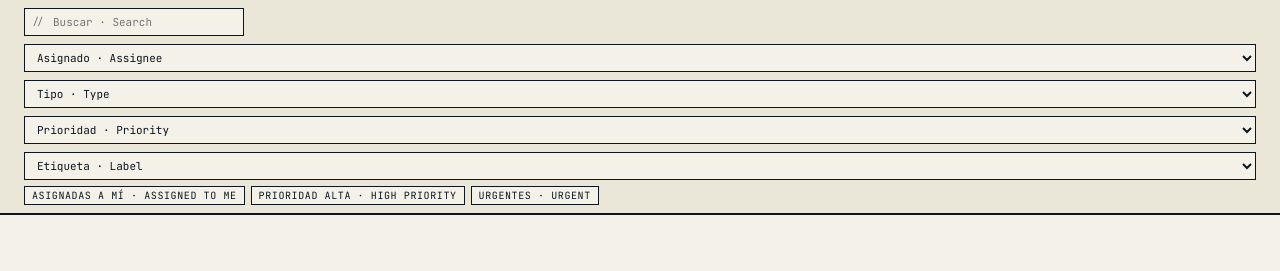
Test case: FilterBar — saved views › saving a custom view persists it to localStorage and renders a pill
Step 1. Select "medium" in the dropdown named "Filtrar por prioridad · Filter by priority" → (640, 130), box x1=24 y1=116 x2=1256 y2=144
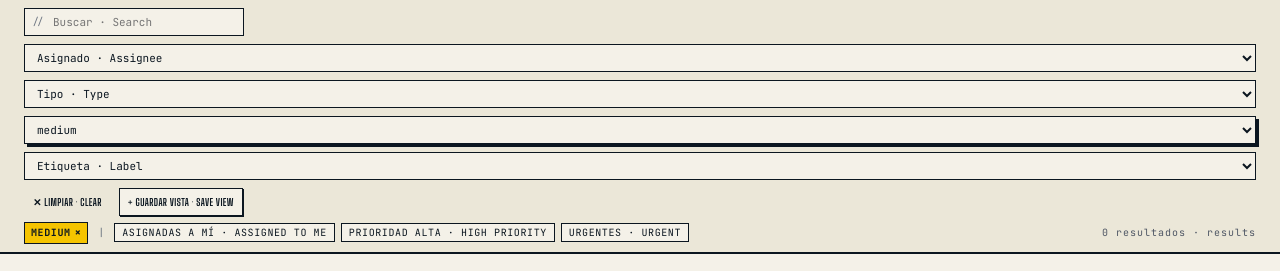
Step 2. Click the button "+ Guardar vista · Save view" → click(181, 202), box x1=119 y1=188 x2=243 y2=216
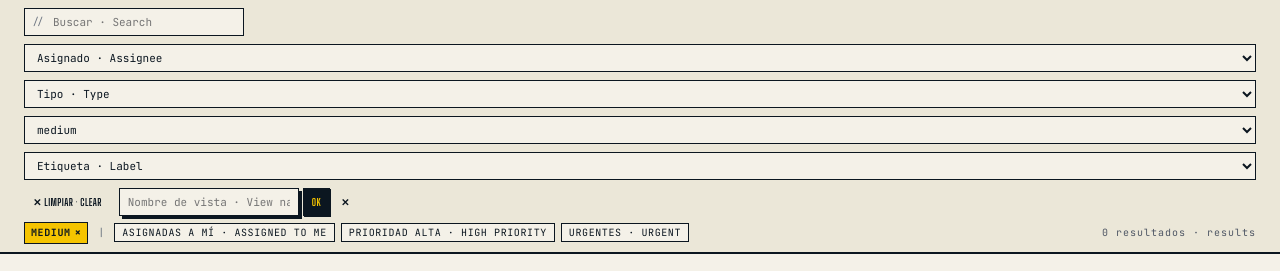
Step 3. Type "My medium view" into the field with placeholder "Nombre de vista · View name" → (209, 202), box x1=119 y1=188 x2=299 y2=216
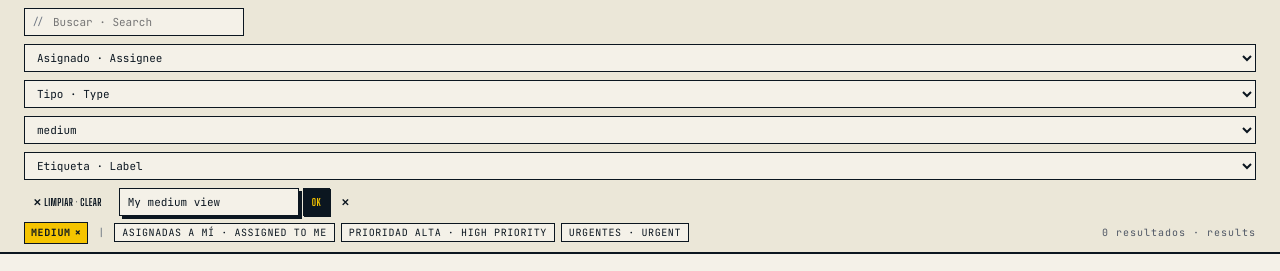
Step 4. Click the button "OK" → click(316, 202), box x1=303 y1=188 x2=330 y2=216
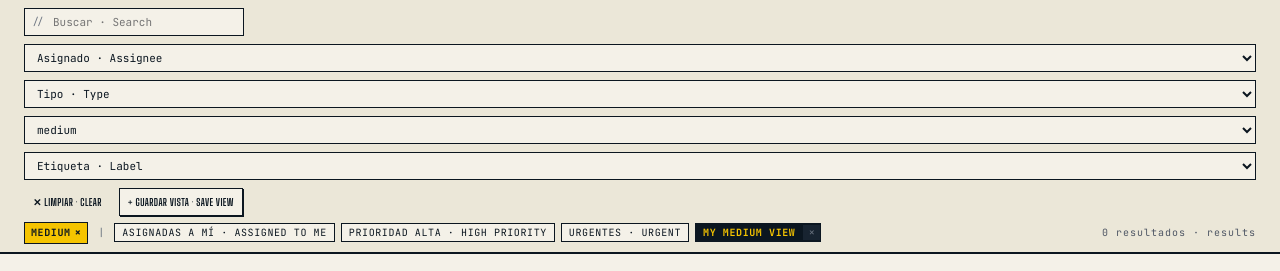
Now the button "My medium view" is shown, box x1=696 y1=224 x2=802 y2=241
